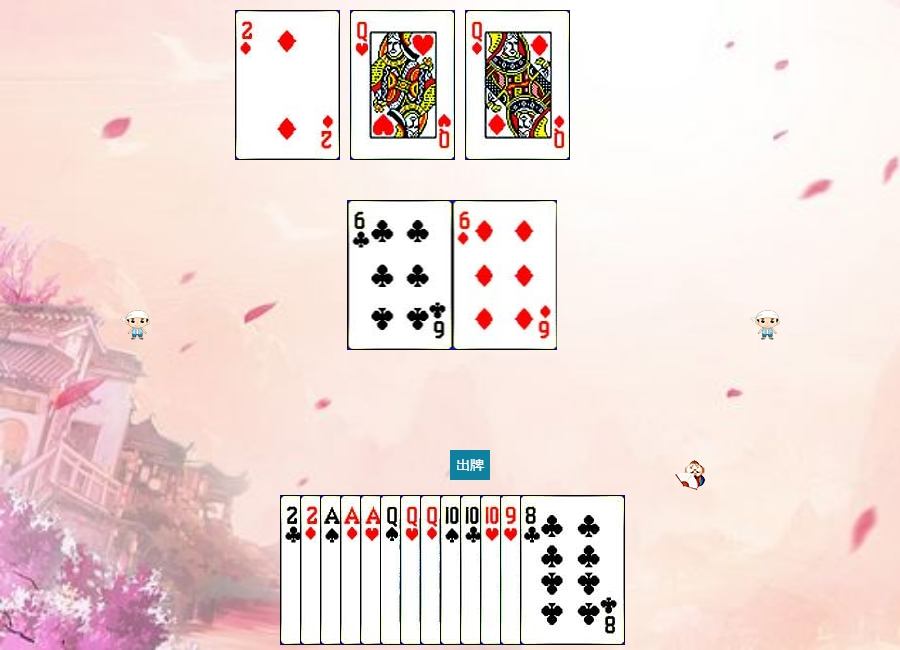10~2: (460, 495, 565, 645)
10~3: (480, 495, 585, 645)
10~4: (440, 495, 545, 645)
12~1: (465, 10, 570, 160), (420, 495, 525, 645)
12~3: (350, 10, 455, 160), (400, 495, 505, 645)
12~4: (380, 495, 485, 645)
14~1: (340, 495, 445, 645)
14~3: (360, 495, 465, 645)
14~4: (320, 495, 425, 645)
15~1: (235, 10, 340, 160), (300, 495, 405, 645)
15~2: (280, 495, 385, 645)
6~1: (453, 200, 558, 350)
6~2: (348, 200, 453, 350)
8~2: (520, 495, 625, 645)
9~3: (500, 495, 605, 645)
